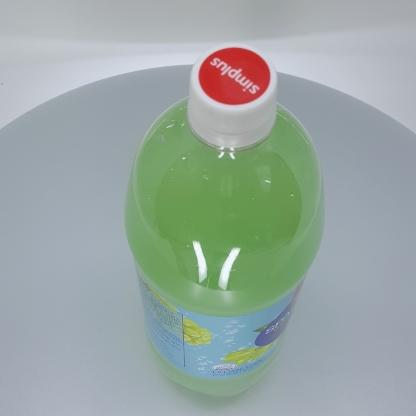---------------: (124, 43, 325, 397)
